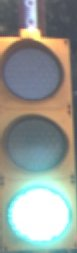Green: (4, 15, 77, 250)
